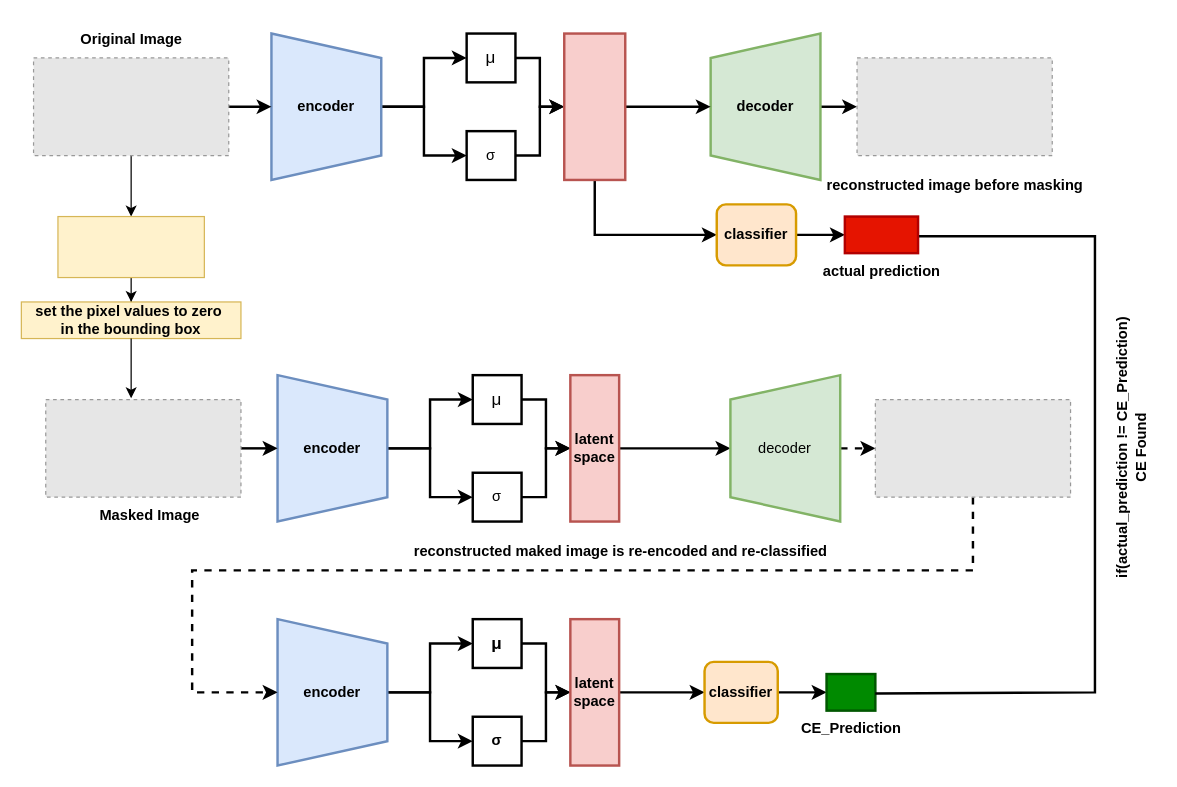
This 1177x787 diagram has some shape labels left out. Grey dashed boxes stand in for pictures. The centre of each missing label's shape, as x and y in pixels:
"Apply LIME on the Image" goes at point (130, 246).
"GO" goes at point (850, 691).
"latent space of 128 features" goes at point (594, 106).
"STOP" goes at point (881, 234).
